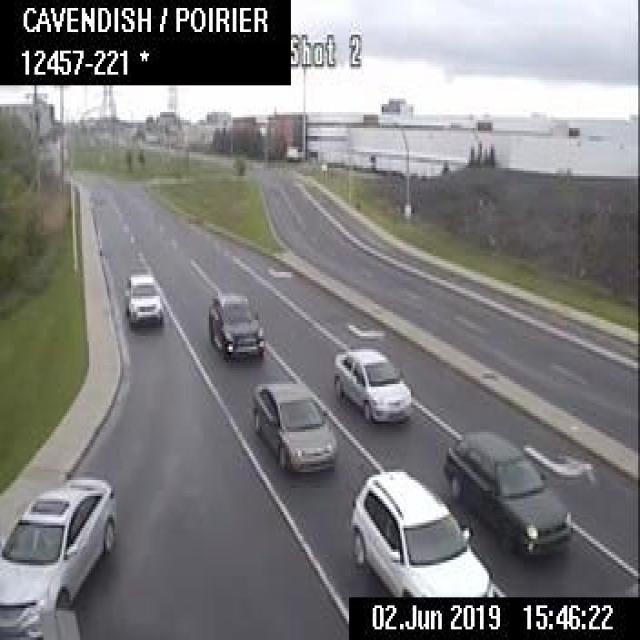vehicle: (0, 474, 116, 637), (346, 468, 490, 594), (442, 427, 572, 558), (252, 376, 338, 473), (329, 341, 411, 427), (206, 288, 263, 360), (124, 269, 162, 328)
